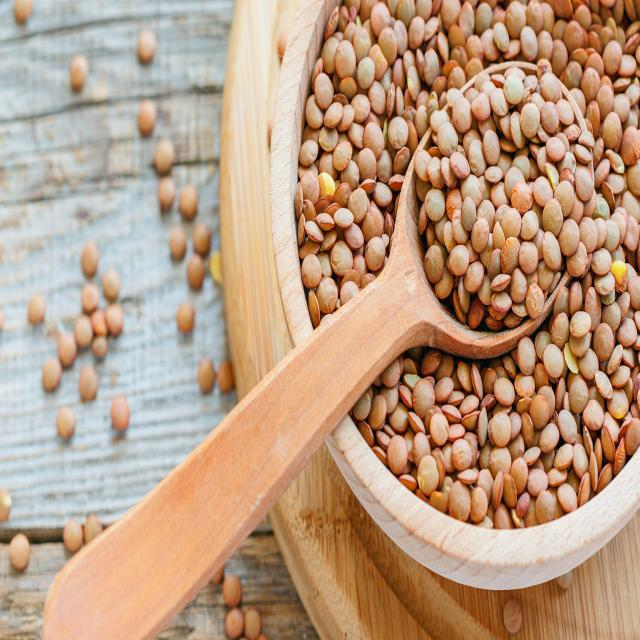lentejas: (287, 4, 639, 551)
